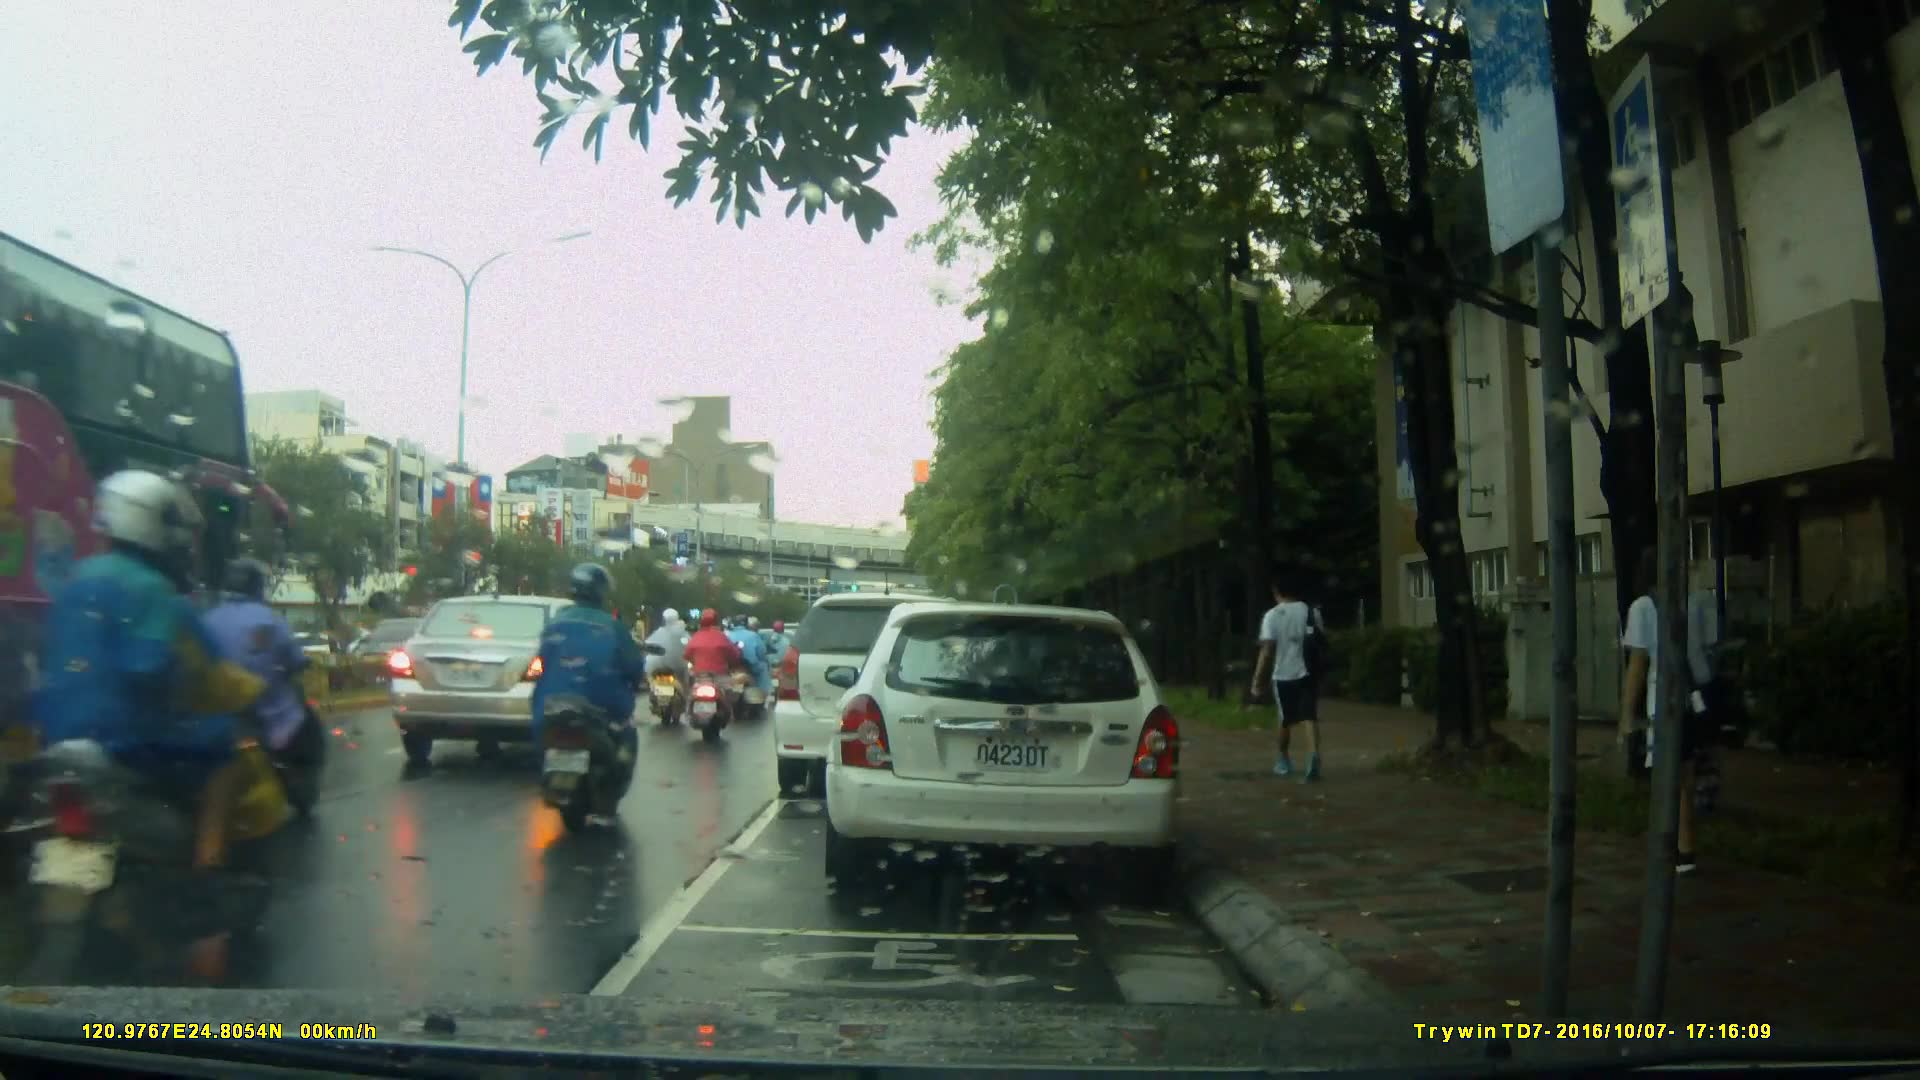pedestrian: (160, 553, 327, 820), (1605, 534, 1724, 884), (1254, 559, 1351, 799)
rider: (4, 472, 285, 1045), (525, 562, 647, 833), (679, 605, 742, 746), (640, 603, 695, 730), (722, 612, 769, 712), (761, 618, 796, 710)
vehicle: (10, 215, 275, 904), (811, 604, 1188, 882), (774, 595, 995, 802), (391, 592, 645, 766)
